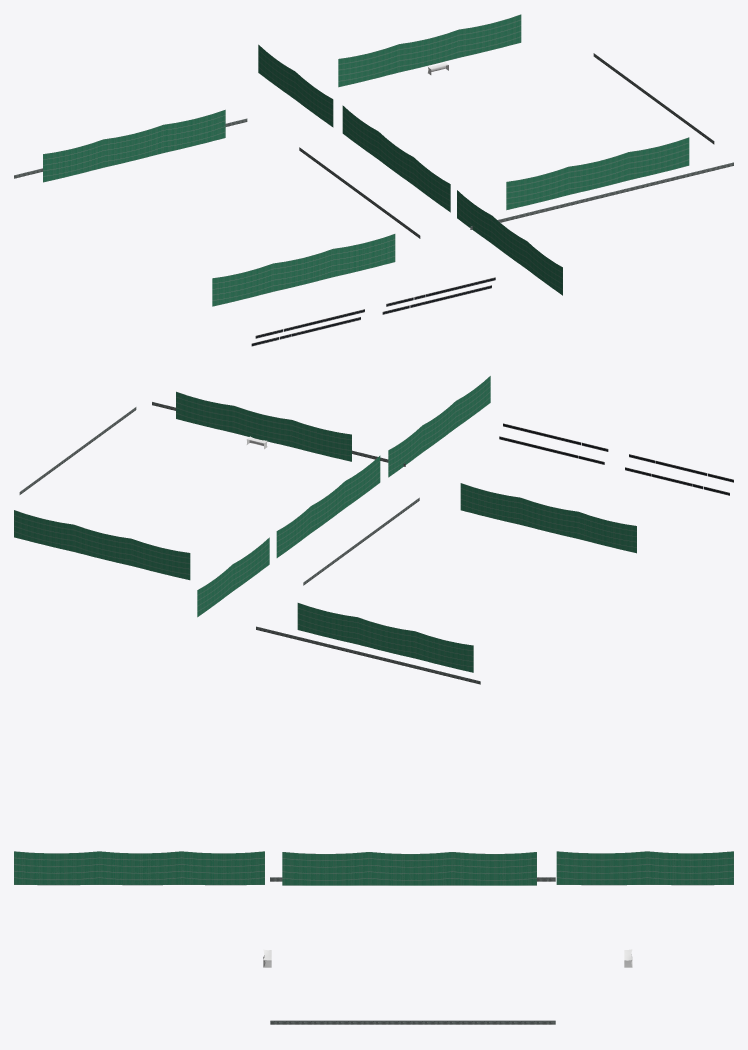
File: st_031_net.fbx
3 renders of one model, top to bottom at view 1: azimuth 30°, elevation 25°; view 2: azimuth 150°, elevation 25°; view 3: azimuth 270°, elevation 25°, orthographic. The views are drawn at different scales.
Parts seen in each view (by area): view 1: st_031_net1; view 2: st_031_net1; view 3: st_031_net1.
Part boxes in pixels (x1=…): st_031_net1: x1=14, y1=14, x2=733, y2=346; st_031_net1: x1=14, y1=376, x2=733, y2=684; st_031_net1: x1=14, y1=851, x2=733, y2=1024.
Bounding box in the file's own units: 220 × 20.35 × 214.
